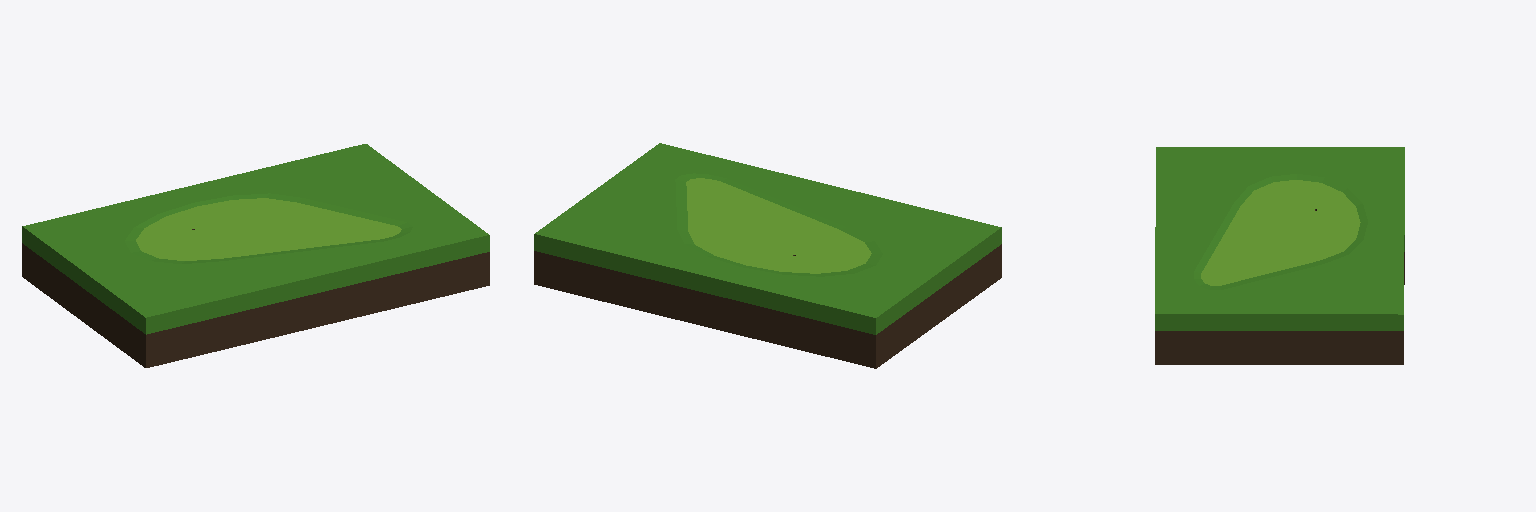
The model's file is Island.obj.
3 views of the same model, side by side, from view 1: azimuth 30°, elevation 25°; view 2: azimuth 150°, elevation 25°; view 3: azimuth 270°, elevation 25° (orthographic).
Parts seen in each view (by area): view 1: Island_Golf_no_trex.004; view 2: Island_Golf_no_trex.004; view 3: Island_Golf_no_trex.004.
Part boxes in pixels (bbox=[...]): Island_Golf_no_trex.004: bbox=[22, 144, 489, 367]; Island_Golf_no_trex.004: bbox=[534, 143, 1001, 368]; Island_Golf_no_trex.004: bbox=[1155, 147, 1404, 364].
Size of the model in its own units: 0.7019 by 0.099 by 0.4437.